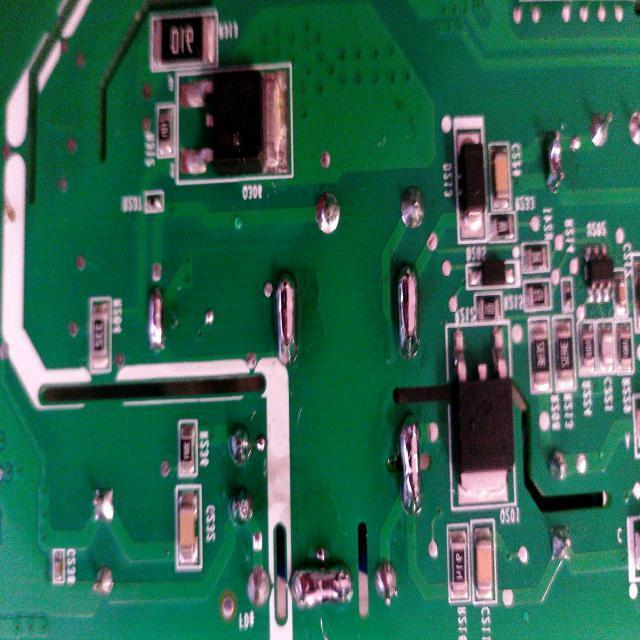Soldering shorted: (290, 554, 358, 610), (271, 264, 301, 374), (398, 412, 424, 520), (395, 260, 422, 362), (140, 276, 170, 352), (542, 116, 566, 198)
